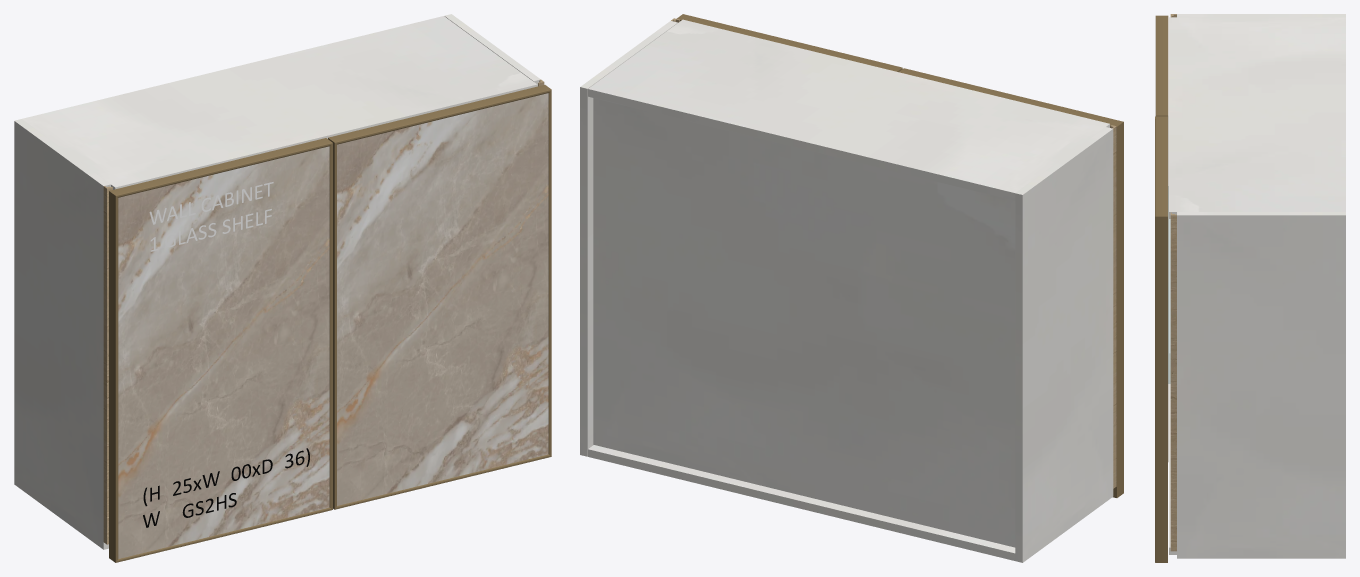
Rendered from WC-SH-NHX-ST-1SG-2HS-XXX-900-725-336-15.glb.
3 views of the same model, side by side, from view 1: azimuth 30°, elevation 25°; view 2: azimuth 150°, elevation 25°; view 3: azimuth 270°, elevation 25° (orthographic). The views are drawn at different scales.
Visible parts, largest first — view 1: Object_node_6, Object_node_4, TP, TP_node_0, Extrusion_node_1, Object_node_8, Extrusion, Extrusion_node_2, Extrusion_node_5, Extrusion_node, Extrusion_node_3, 2D text (+4 smaller); view 2: TP_node_2, TP, TP_node_0, TP_node, TP_node_1, Extrusion_node_1, Object_node_8, Extrusion_node_2, Extrusion; view 3: TP_node_1, TP, Extrusion_node_3, Object_node_16, Extrusion, Extrusion_node_2, TP_node_0, TP_node, Extrusion_node, Object_node_1.
Boxes of the visible parts, x1=… form: Object_node_6: x1=337, y1=93, x2=548, y2=505; Object_node_4: x1=118, y1=146, x2=329, y2=558; TP: x1=22, y1=16, x2=537, y2=189; TP_node_0: x1=14, y1=119, x2=110, y2=549; Extrusion_node_1: x1=109, y1=191, x2=118, y2=562; Object_node_8: x1=103, y1=186, x2=112, y2=544; Extrusion: x1=109, y1=138, x2=332, y2=197; Extrusion_node_2: x1=328, y1=85, x2=551, y2=144; Extrusion_node_5: x1=328, y1=138, x2=336, y2=509; Extrusion_node: x1=329, y1=143, x2=332, y2=509; Extrusion_node_3: x1=548, y1=90, x2=551, y2=456; 2D text: x1=149, y1=182, x2=273, y2=251; TP_node_2: x1=593, y1=98, x2=1015, y2=547; TP: x1=588, y1=19, x2=1109, y2=200; TP_node_0: x1=1015, y1=127, x2=1113, y2=562; TP_node: x1=588, y1=445, x2=1015, y2=560; TP_node_1: x1=580, y1=21, x2=677, y2=456; Extrusion_node_1: x1=1113, y1=122, x2=1123, y2=497; Object_node_8: x1=1110, y1=125, x2=1116, y2=488; Extrusion_node_2: x1=676, y1=14, x2=902, y2=71; Extrusion: x1=899, y1=68, x2=1123, y2=126; TP_node_1: x1=1177, y1=212, x2=1345, y2=558; TP: x1=1169, y1=17, x2=1345, y2=218; Extrusion_node_3: x1=1155, y1=216, x2=1167, y2=562; Object_node_16: x1=1170, y1=212, x2=1176, y2=551; Extrusion: x1=1155, y1=15, x2=1168, y2=115; Extrusion_node_2: x1=1155, y1=116, x2=1167, y2=216; TP_node_0: x1=1177, y1=14, x2=1345, y2=17; TP_node: x1=1169, y1=353, x2=1176, y2=554; Extrusion_node: x1=1156, y1=115, x2=1168, y2=461; Object_node_1: x1=1168, y1=219, x2=1169, y2=383.
Size of what is drawn, in the model's own units: 0.9 by 0.725 by 0.366.
7 materials, 3 textured.
